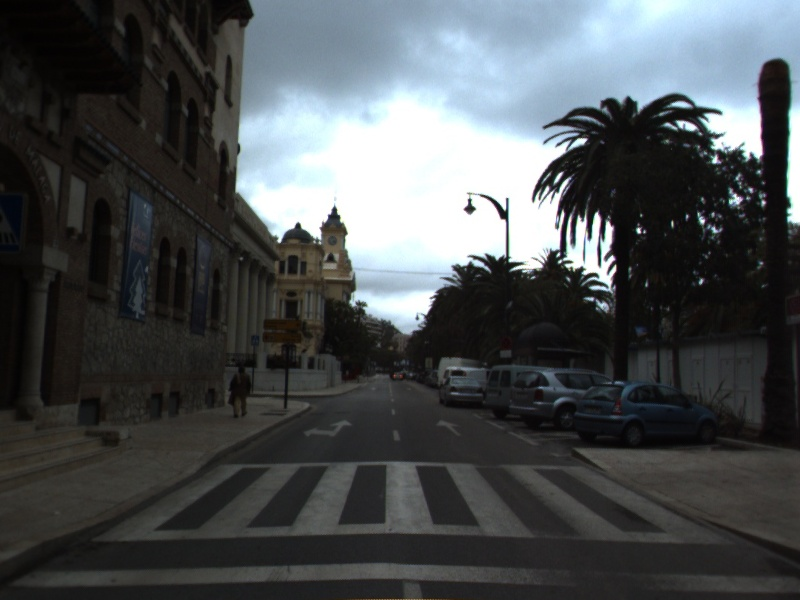STRAIGHT: (434, 417, 464, 439)
STRAIGHT_LEFT: (301, 417, 356, 439)
